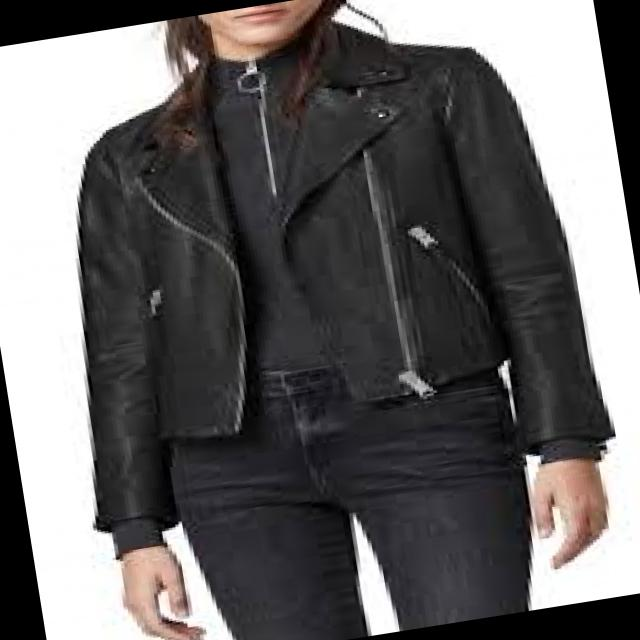Jacket: (14, 10, 634, 555)
